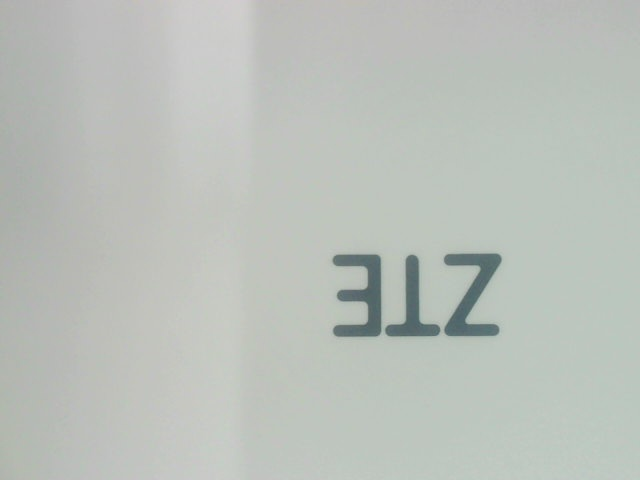AN_ZTELarge: (316, 237, 520, 345)
